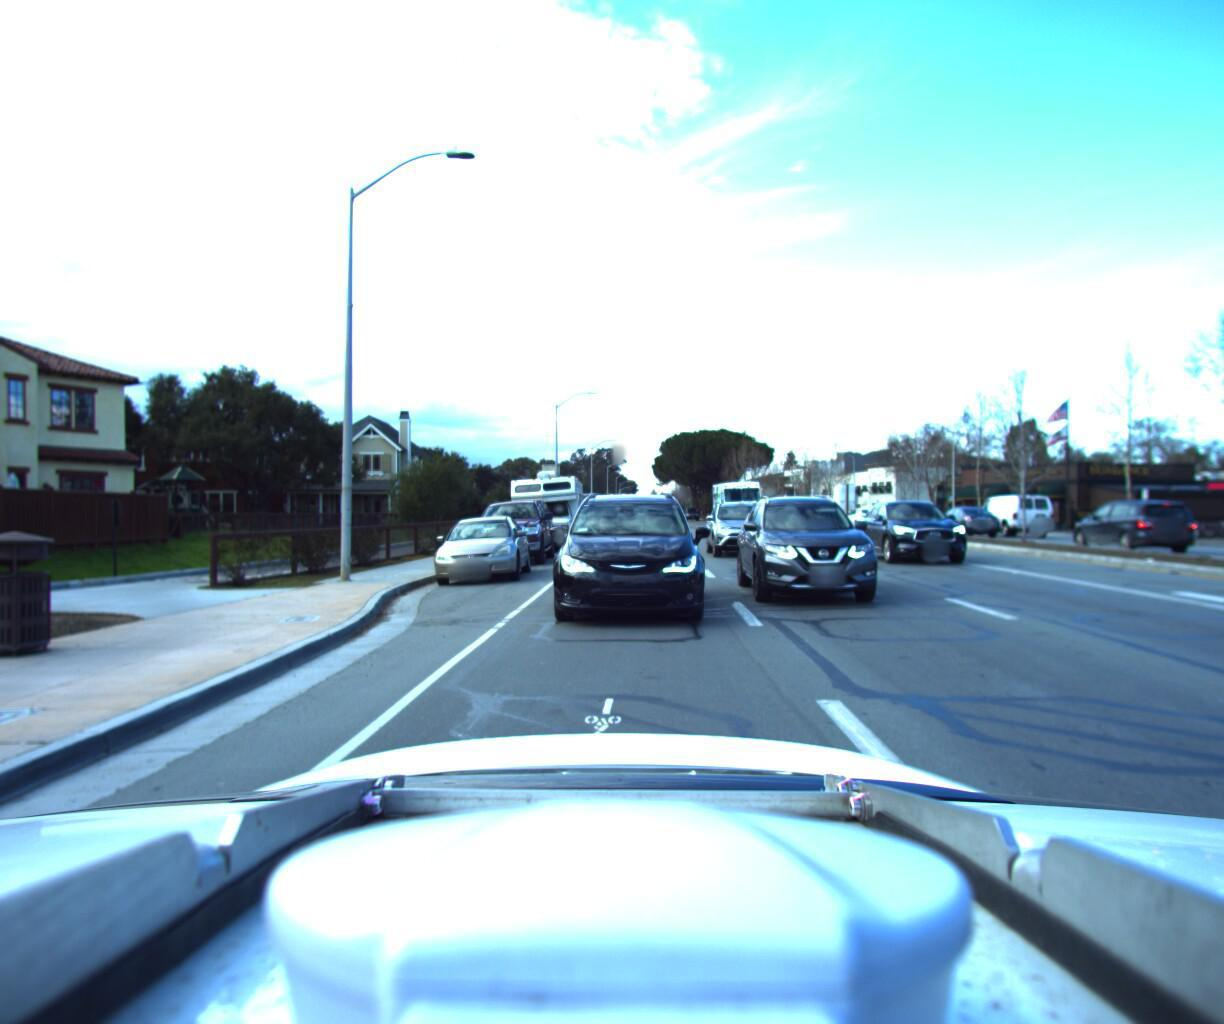bus: (511, 458, 586, 548)
car: (550, 472, 716, 624), (734, 475, 906, 611), (861, 490, 992, 563), (1050, 491, 1184, 554), (424, 507, 534, 584), (463, 487, 558, 564), (701, 488, 780, 553), (963, 485, 1046, 533), (925, 494, 998, 533), (838, 500, 885, 528)
truck: (710, 473, 764, 525)
